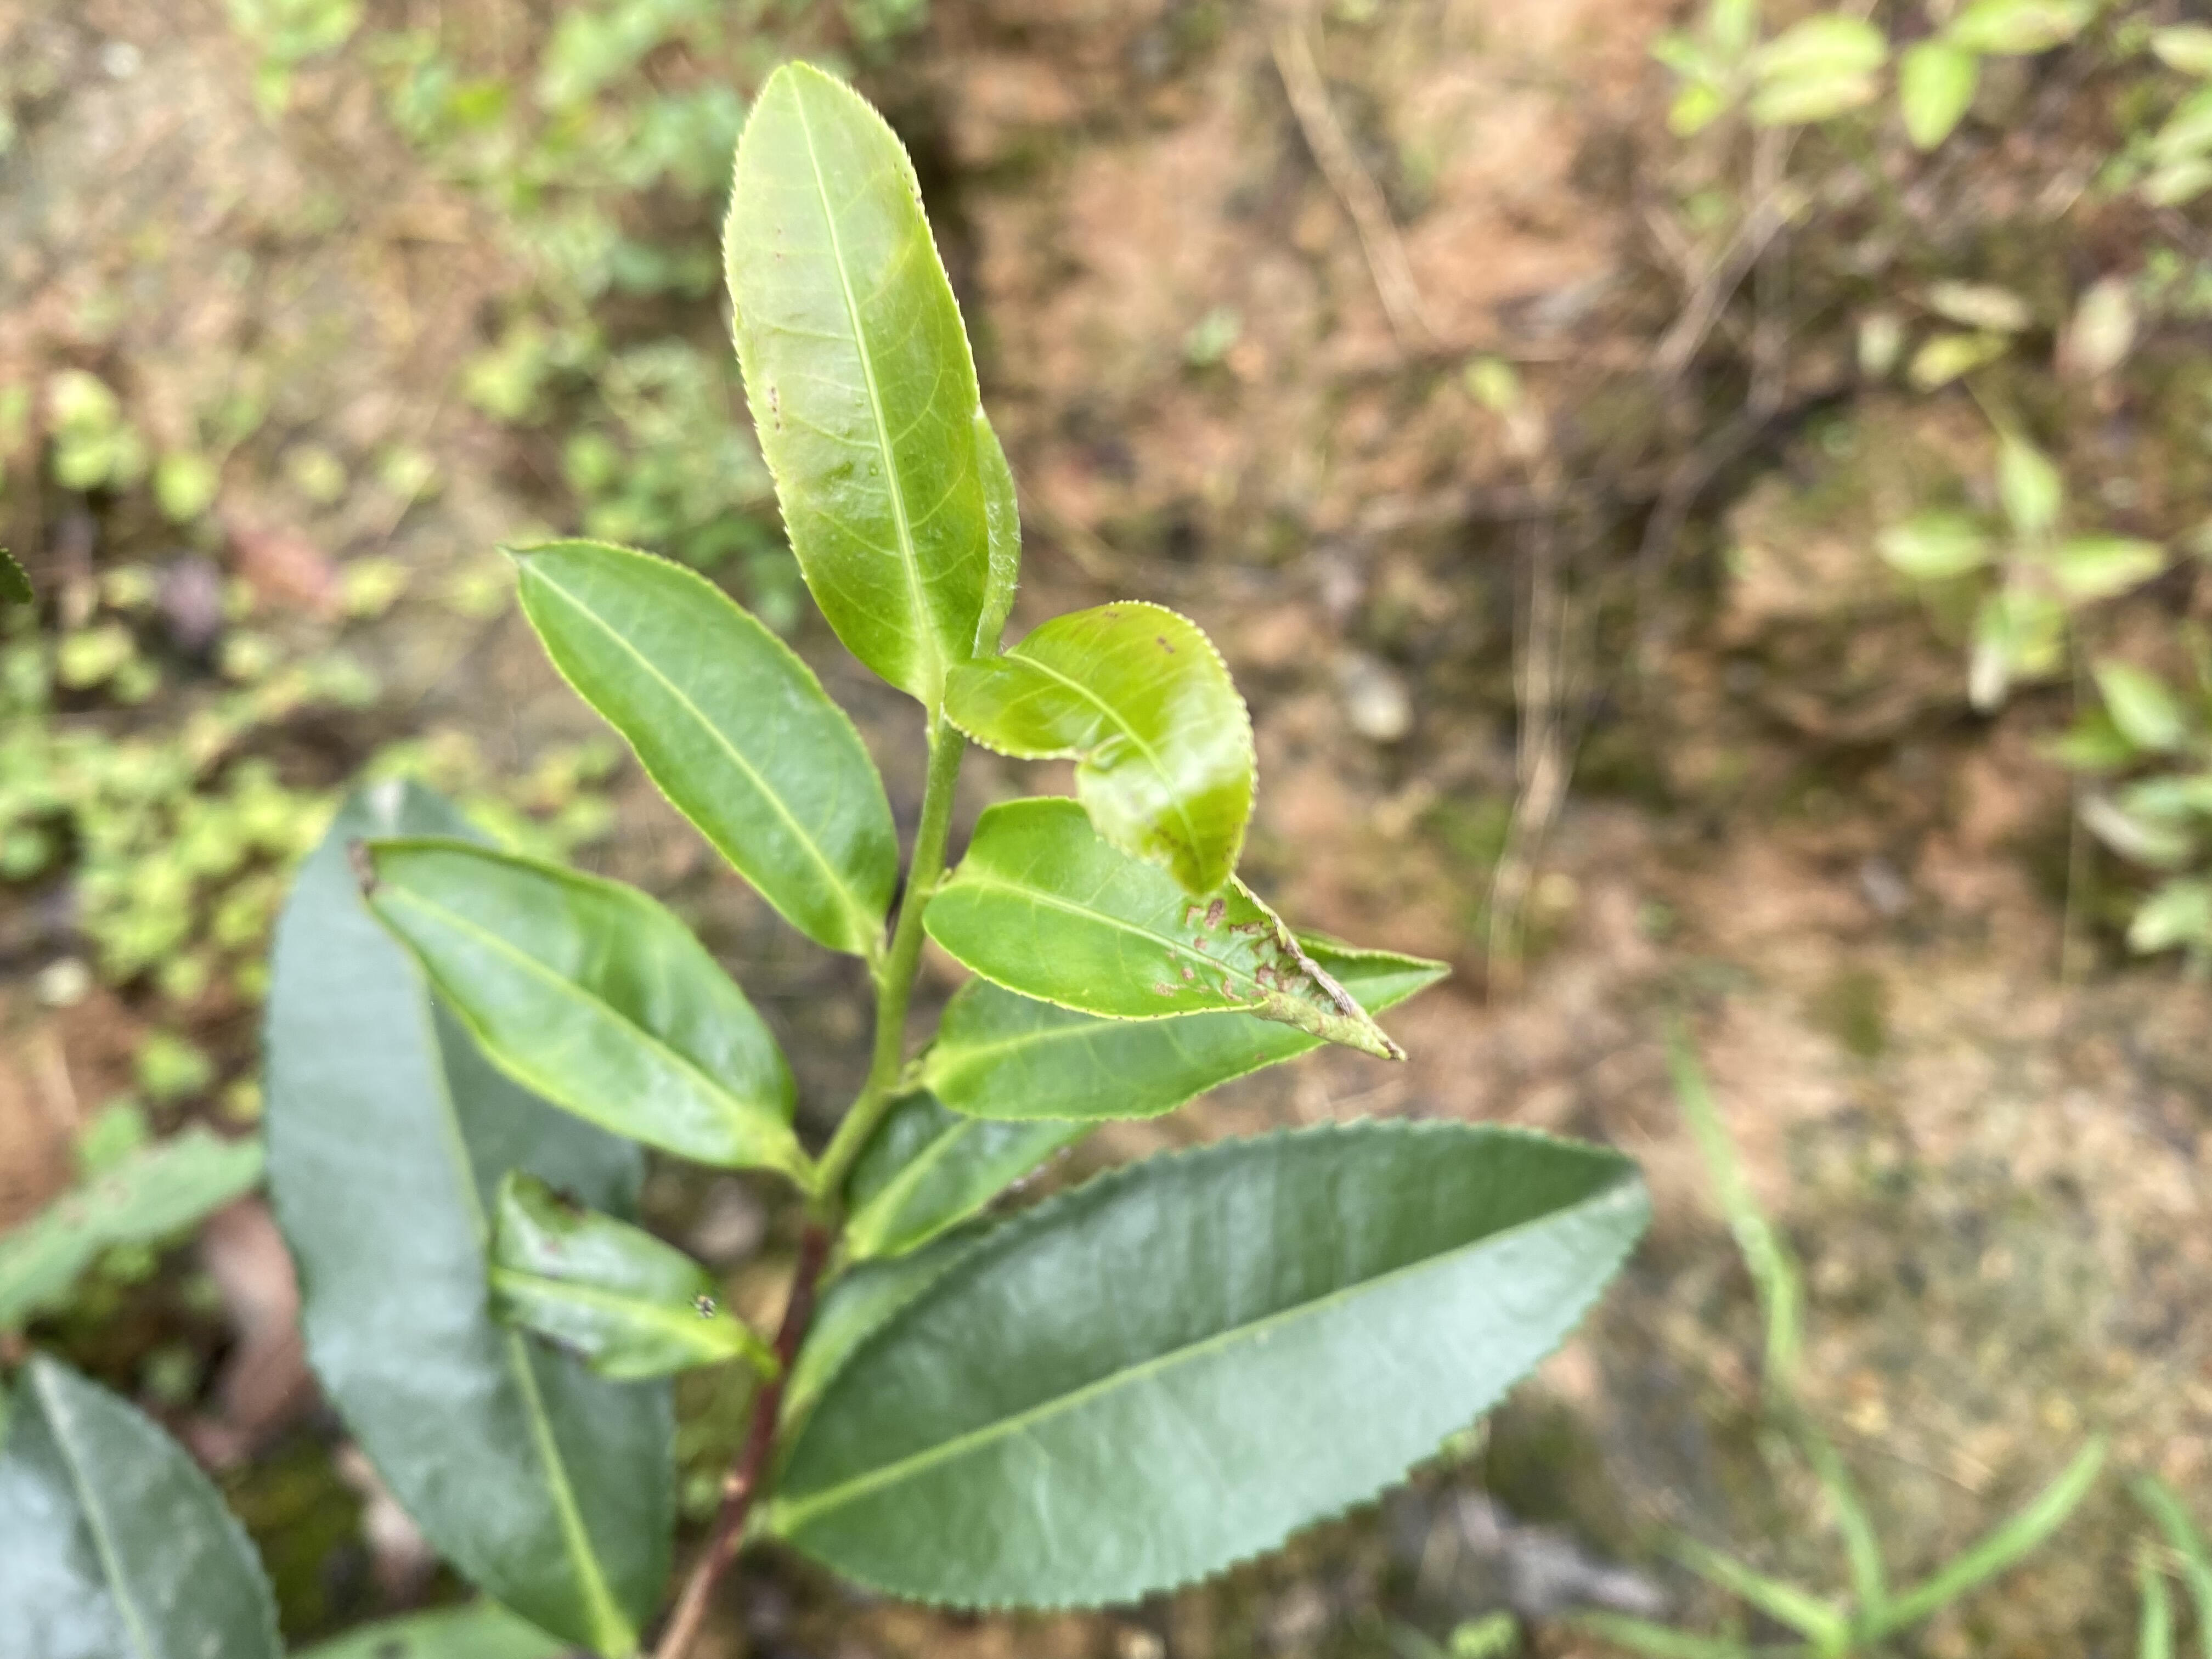healthy: (761, 1114, 1655, 1614), (493, 538, 904, 958)
tanju_low: (714, 59, 1003, 680), (345, 833, 808, 1171), (921, 793, 1407, 1066), (942, 599, 1261, 901)
